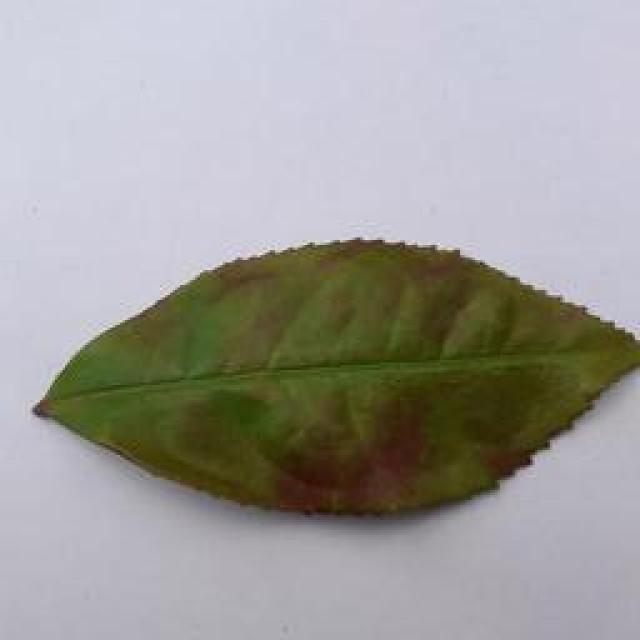Red Leaf Spot: (31, 227, 640, 532)
